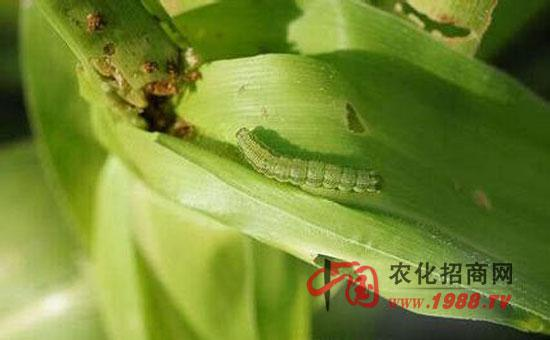pest: (218, 117, 407, 208)
